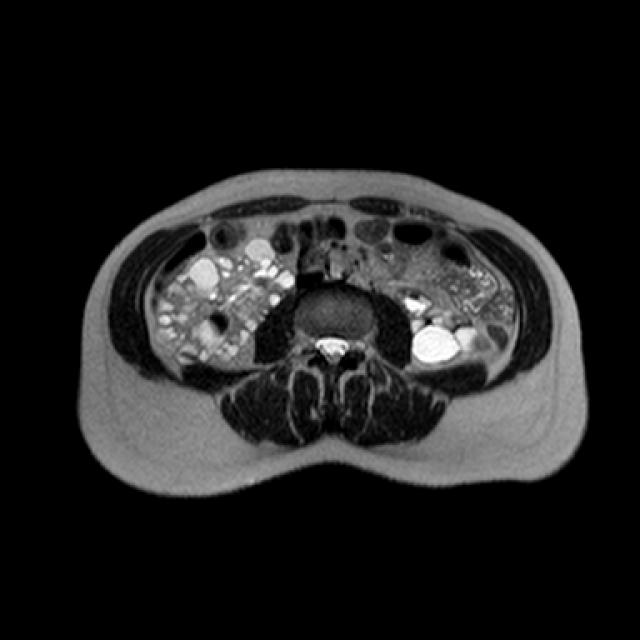sag: (154, 236, 296, 366)
sol: (401, 287, 487, 365)
